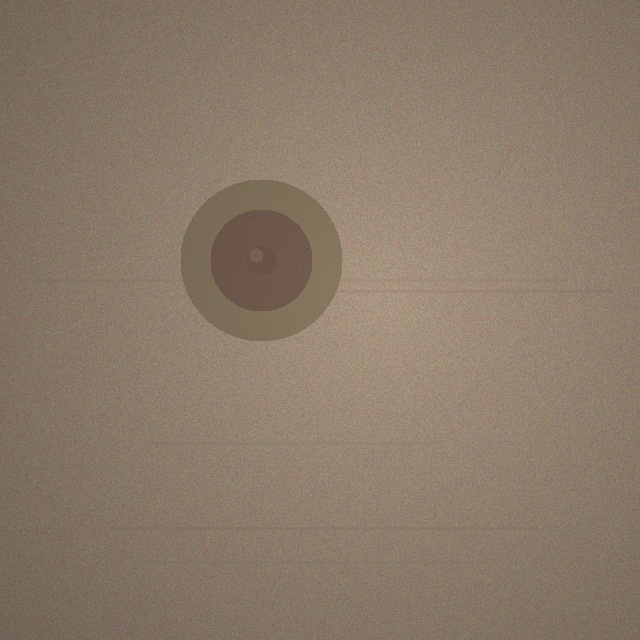good: (180, 179, 342, 341)
